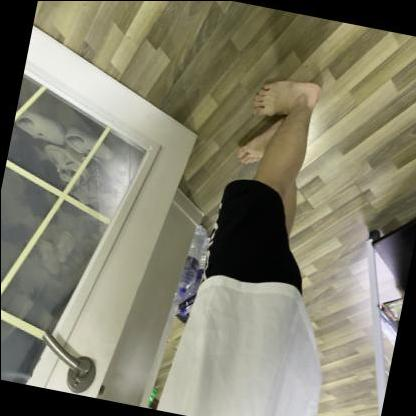no_safety-shoe: (252, 52, 335, 127), (230, 109, 294, 175)
